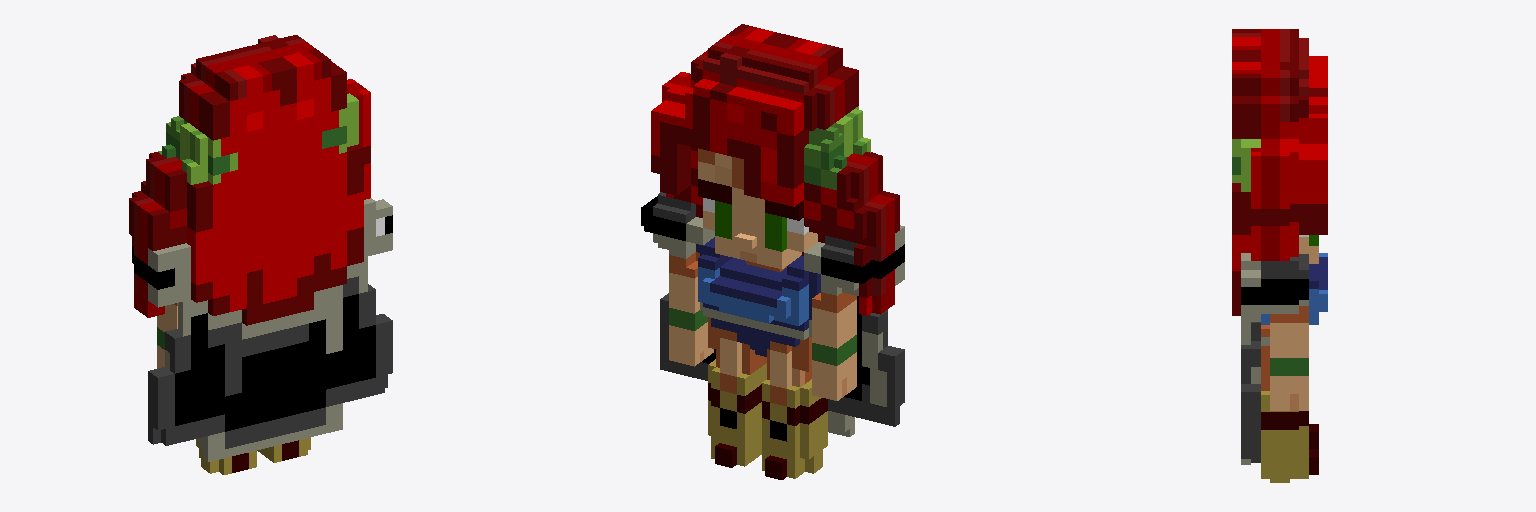
3 renders of one model, left to right at view 1: azimuth 30°, elevation 25°; view 2: azimuth 150°, elevation 25°; view 3: azimuth 270°, elevation 25°, orthographic.
Visible parts, largest first — view 1: object 1; view 2: object 1; view 3: object 1.
Part boxes in pixels (x1,y1,x2,y2): object 1: (129, 35, 392, 474); object 1: (641, 24, 904, 479); object 1: (1232, 29, 1327, 482).
Bounding box in the file's own units: 2.8 × 4.6 × 1.
1 materials, 1 textured.